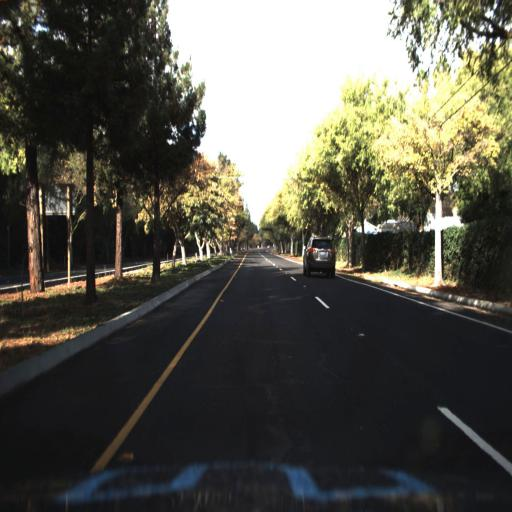car: (302, 234, 337, 279)
